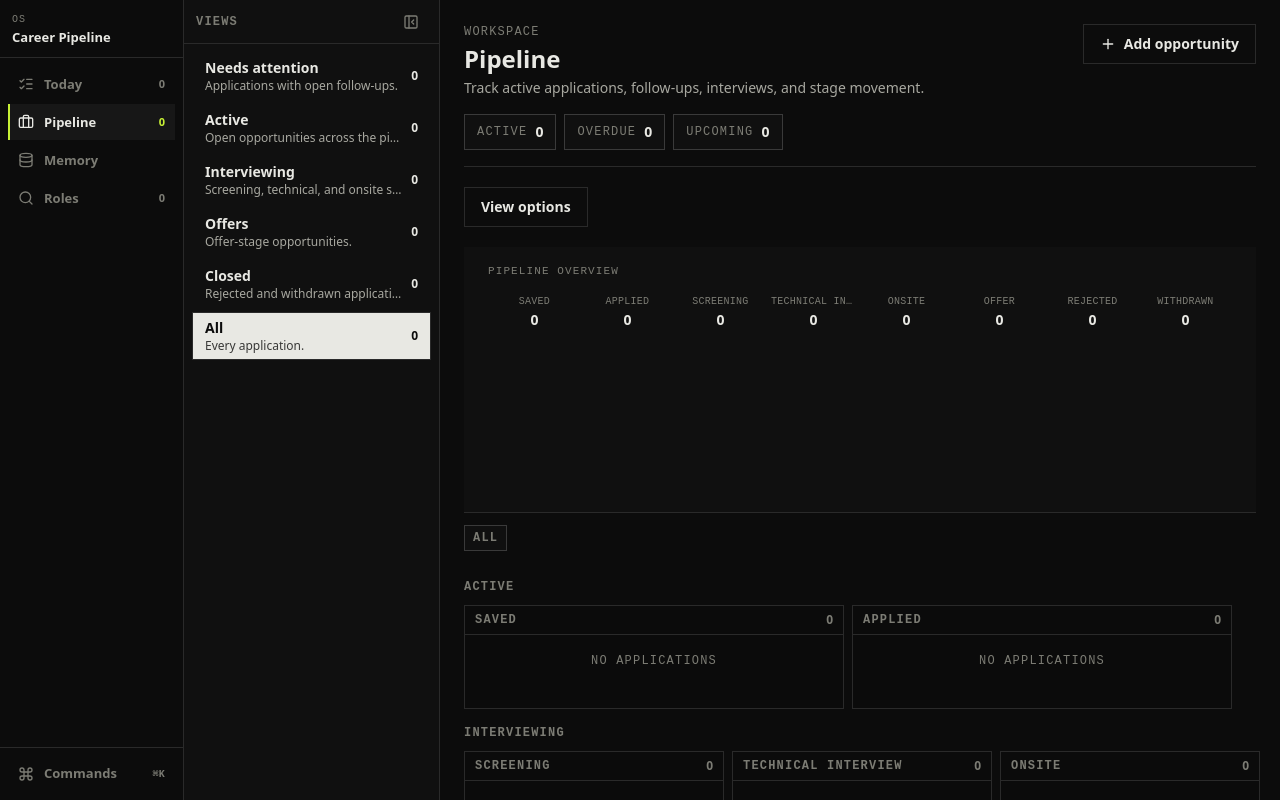
Scenario: Job application tracker shell › renders pipeline controls as Pipeline workspace-local tools
Expected: the navigation bar named "Global navigation" is shown, [0,0,184,799]
Expected: the button "Add opportunity" is shown, [1083,24,1256,64]
Click the button "View options": (526, 207) [464,187,588,227]
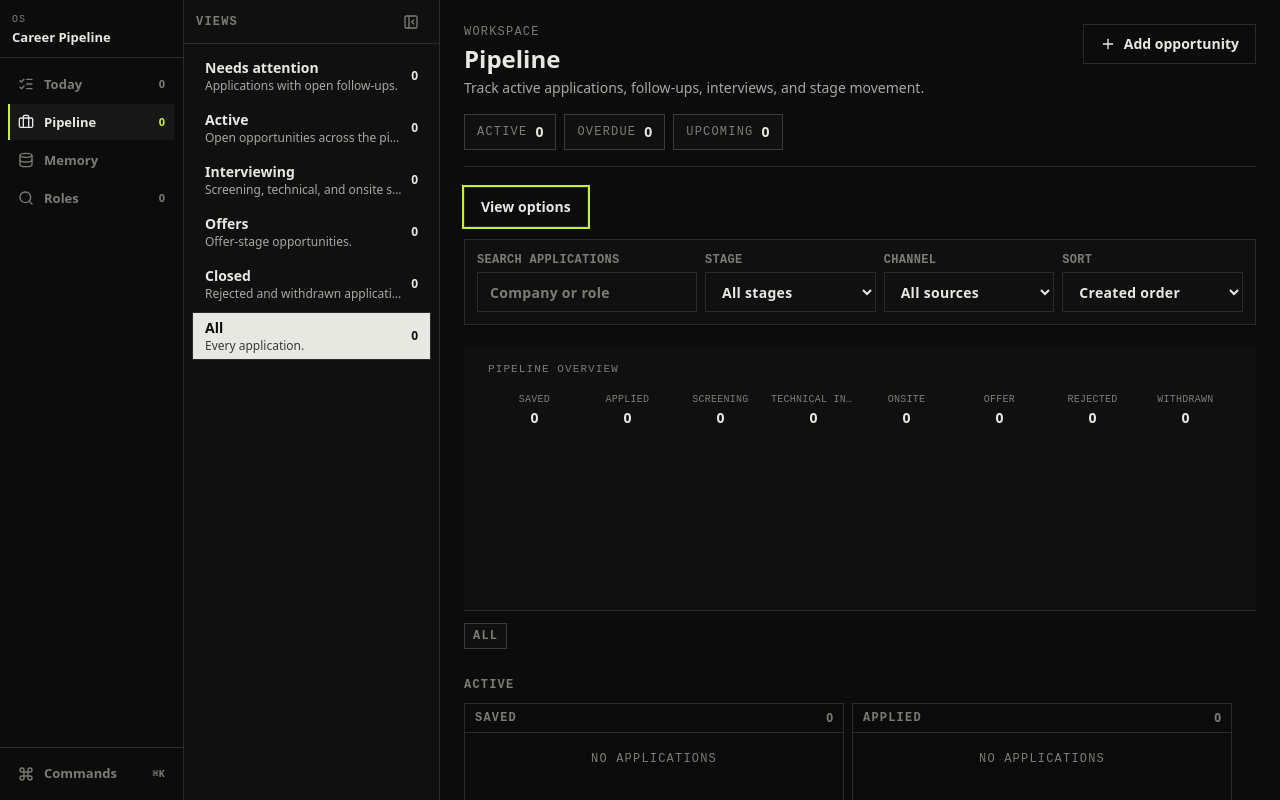
Expected: the text "Active" is shown, [477,125,527,139]
Result: the element named "Pipeline controls" is shown at [464,239,1256,325]
